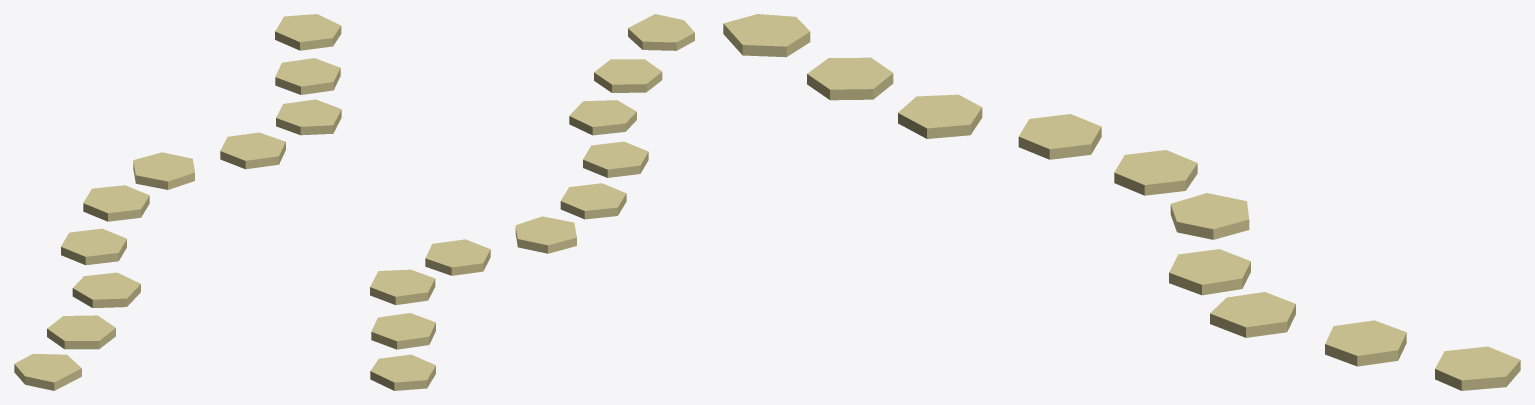
Rendered from steps.fbx.
The picture shows the model from 3 angles, left to right: view 1: azimuth 30°, elevation 25°; view 2: azimuth 210°, elevation 25°; view 3: azimuth 270°, elevation 25°; orthographic projection. The views are drawn at different scales.
Visible parts, largest first — view 1: steps; view 2: steps; view 3: steps.
Part boxes in pixels (x1,y1,x2,y2): steps: (14, 14, 341, 390); steps: (370, 14, 694, 390); steps: (723, 14, 1520, 390).
Size of the model in its own units: 13577 by 243 by 12548.
